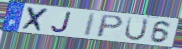6: (149, 20, 172, 44)
I: (83, 12, 99, 38)
J: (50, 11, 73, 34)
P: (95, 13, 125, 38)
U: (123, 16, 150, 42)
X: (20, 6, 51, 34)
